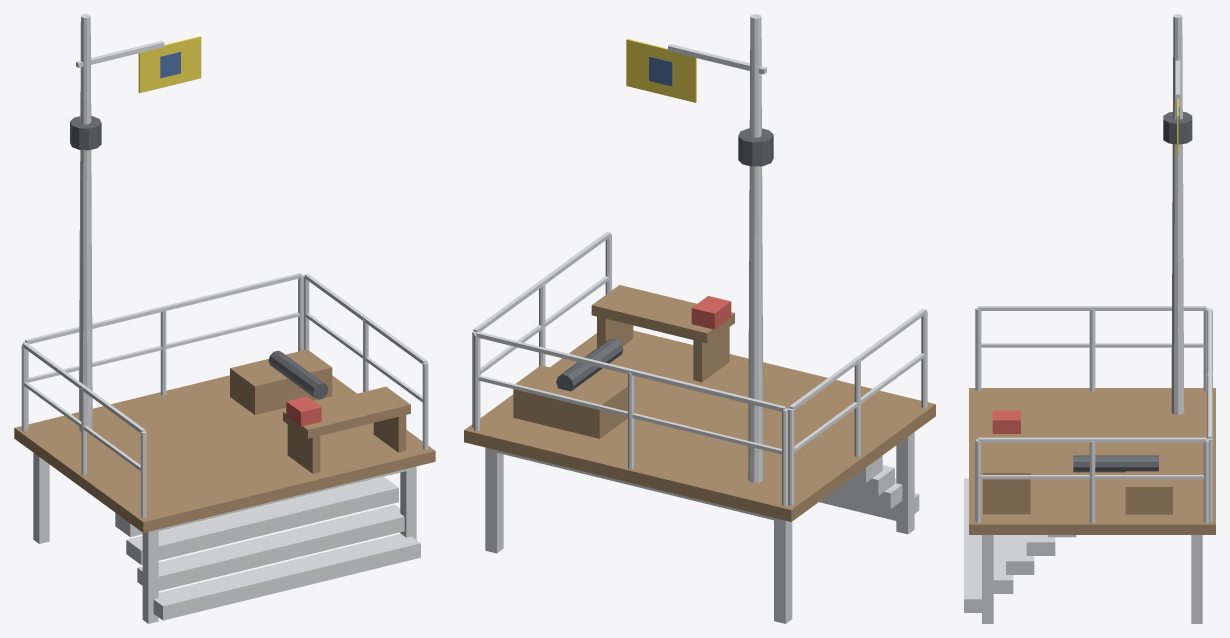
File: marina-and-yacht-club-marina-and-yacht-club-start-line-3b6c7a68__38324.glb
3 renders of one model, left to right at view 1: azimuth 30°, elevation 25°; view 2: azimuth 150°, elevation 25°; view 3: azimuth 270°, elevation 25°, orthographic. The views are drawn at different scales.
Parts seen in each view (by area): view 1: marina-and-yacht-club-start-line-gun-platform; view 2: marina-and-yacht-club-start-line-gun-platform; view 3: marina-and-yacht-club-start-line-gun-platform.
Boxes of the visible parts, x1,y1,x2,y2 form: marina-and-yacht-club-start-line-gun-platform: (14, 14, 435, 623); marina-and-yacht-club-start-line-gun-platform: (464, 14, 935, 623); marina-and-yacht-club-start-line-gun-platform: (964, 14, 1215, 623).
Bounding box in the file's own units: 3.4 × 5.82 × 2.65.
